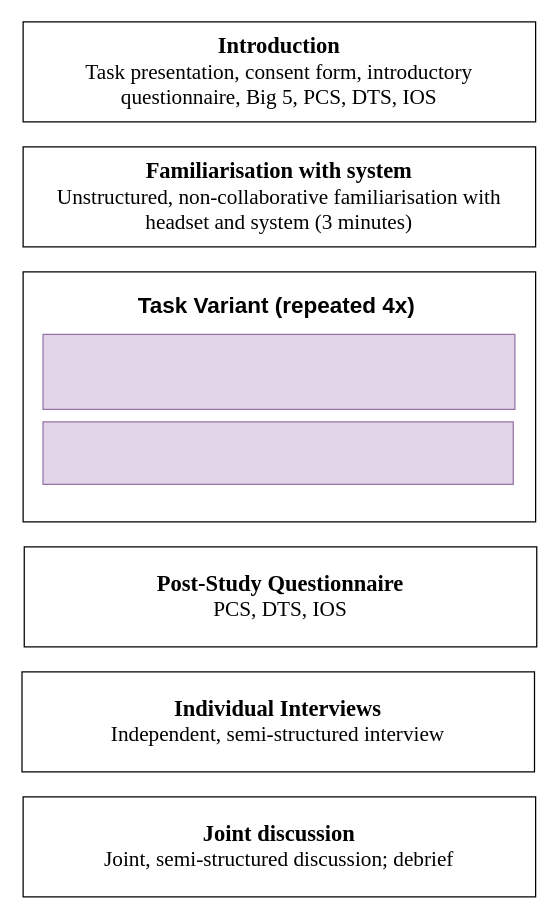
Image size: 559x919. Some labels were removed from this diagram. Here are the shapes that lost their labels. From the top down, the box of each, then its label:
(42, 333, 515, 409): Joint Task Building of bridge-like structure with partner
(42, 421, 513, 484): Post-Task Questionnaire NASA TLX + SUS
